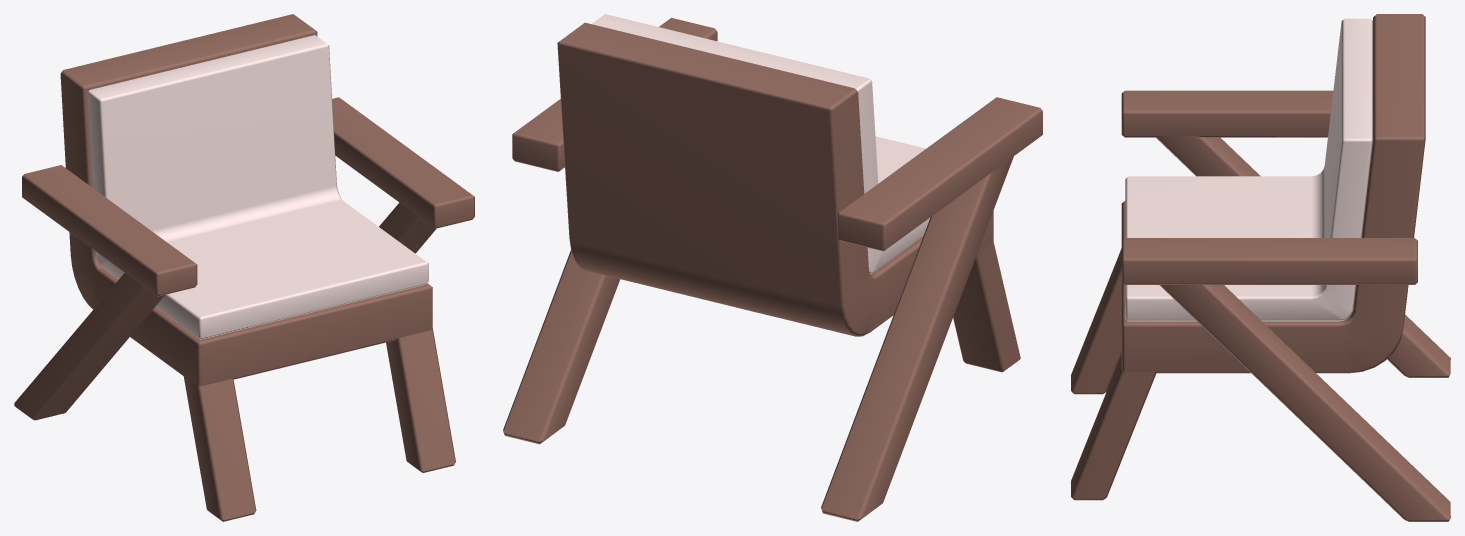
File: Town_17_Outdoor_Chair_1.glb
3 renders of one model, left to right at view 1: azimuth 30°, elevation 25°; view 2: azimuth 150°, elevation 25°; view 3: azimuth 270°, elevation 25°, orthographic. The views are drawn at different scales.
Visible parts, largest first — view 1: Town_17_Outdoor_Chair_1; view 2: Town_17_Outdoor_Chair_1; view 3: Town_17_Outdoor_Chair_1.
Boxes of the visible parts, <box> form: Town_17_Outdoor_Chair_1: <box>14,14,474,521</box>; Town_17_Outdoor_Chair_1: <box>503,14,1042,521</box>; Town_17_Outdoor_Chair_1: <box>1071,14,1450,521</box>.
Size of the model in its own units: 1.12 by 1.13 by 1.06.
Materials: 1 (1 with a texture image).
